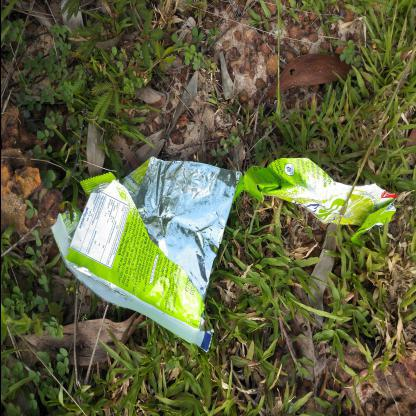plastik: (52, 155, 242, 353)
